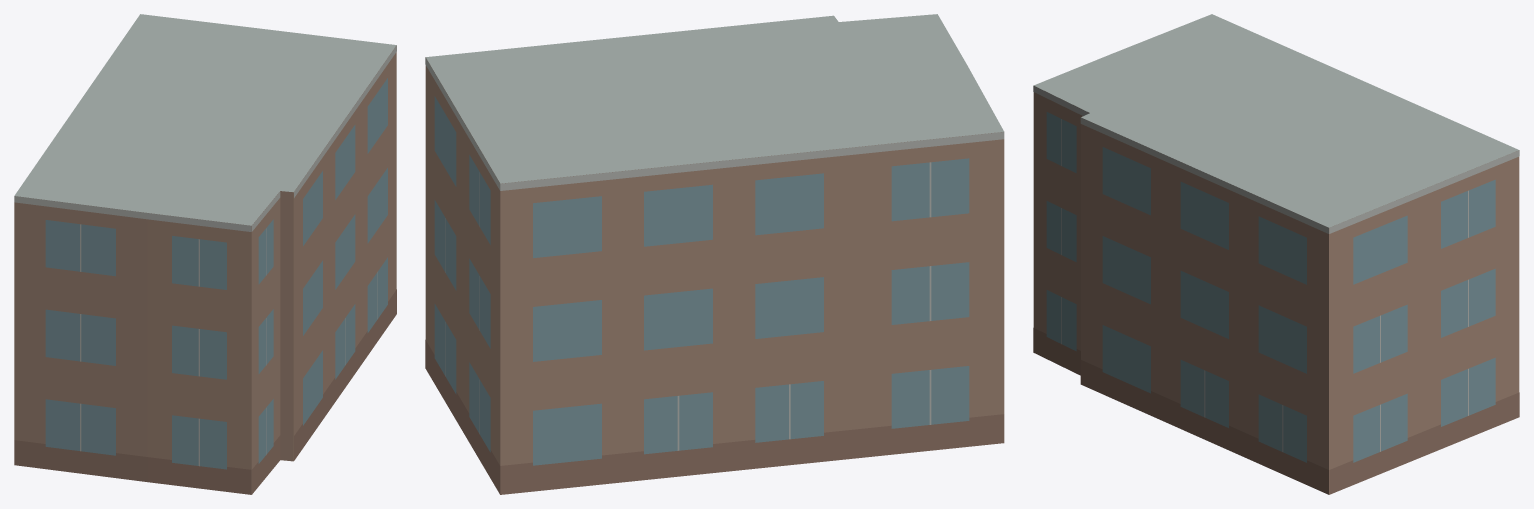
Rendered from survey-upis-32689095.glb.
3 views of the same model, side by side, from view 1: azimuth 30°, elevation 25°; view 2: azimuth 150°, elevation 25°; view 3: azimuth 270°, elevation 25° (orthographic). The views are drawn at different scales.
Parts seen in each view (by area): view 1: survey-upis-32689095.tmp; view 2: survey-upis-32689095.tmp; view 3: survey-upis-32689095.tmp.
Boxes of the visible parts, left/top/right/bottom form: survey-upis-32689095.tmp: left=14, top=14, right=396, bottom=494; survey-upis-32689095.tmp: left=425, top=14, right=1004, bottom=494; survey-upis-32689095.tmp: left=1033, top=14, right=1519, bottom=494.
Bounding box in the file's own units: 17.51 × 10.2 × 16.82.
